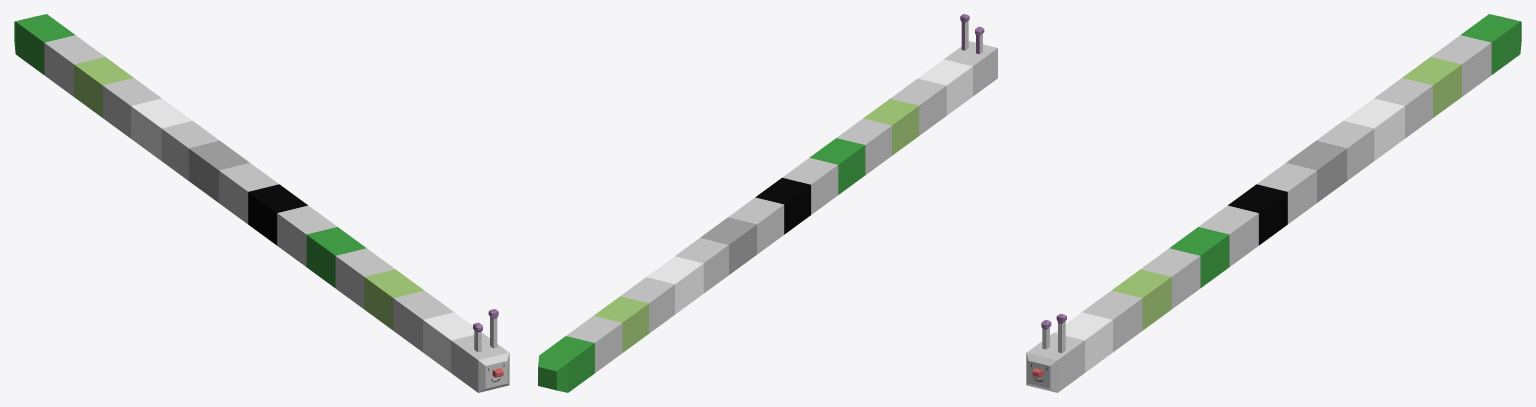
The model's file is aroworm.glb.
3 views of the same model, side by side, from view 1: azimuth 30°, elevation 25°; view 2: azimuth 150°, elevation 25°; view 3: azimuth 330°, elevation 25° (orthographic). The views are drawn at different scales.
Visible parts, largest first — view 1: Cube; view 2: Cube; view 3: Cube.
Boxes of the visible parts, x1,y1,x2,y2 form: Cube: (14,14,509,392); Cube: (538,14,997,392); Cube: (1026,14,1521,392).
Size of the model in its own units: 13.9 by 29.35 by 366.
Materials: 1 (1 with a texture image).
